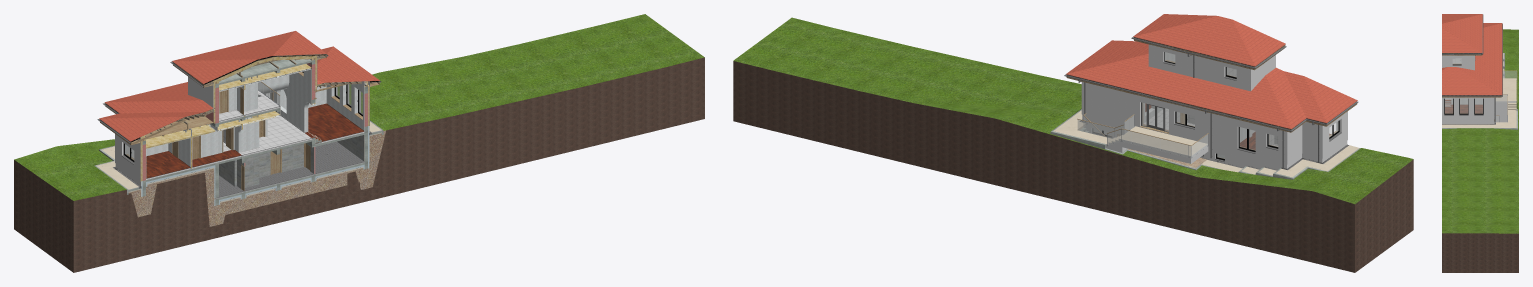
File: 02_00_CASA-BACAU_SA.glb
3 views of the same model, side by side, from view 1: azimuth 30°, elevation 25°; view 2: azimuth 150°, elevation 25°; view 3: azimuth 270°, elevation 25° (orthographic). The views are drawn at different scales.
Visible parts, largest first — view 1: 4.SEC-A; view 2: 4.SEC-A; view 3: 4.SEC-A.
Part boxes in pixels (x1,y1,x2,y2): 4.SEC-A: (14, 14, 704, 272); 4.SEC-A: (733, 14, 1413, 272); 4.SEC-A: (1442, 14, 1518, 272).
Size of the model in its own units: 55 by 14.05 by 9.
Materials: 48 (29 with a texture image).
